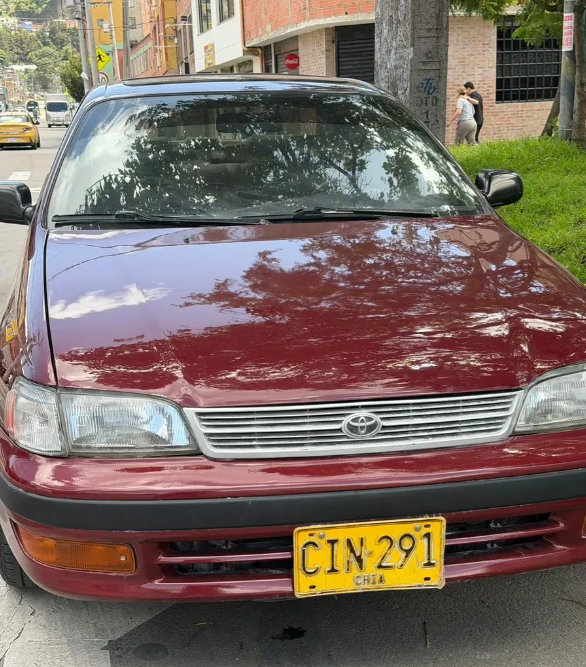placa: (290, 523, 450, 590)
